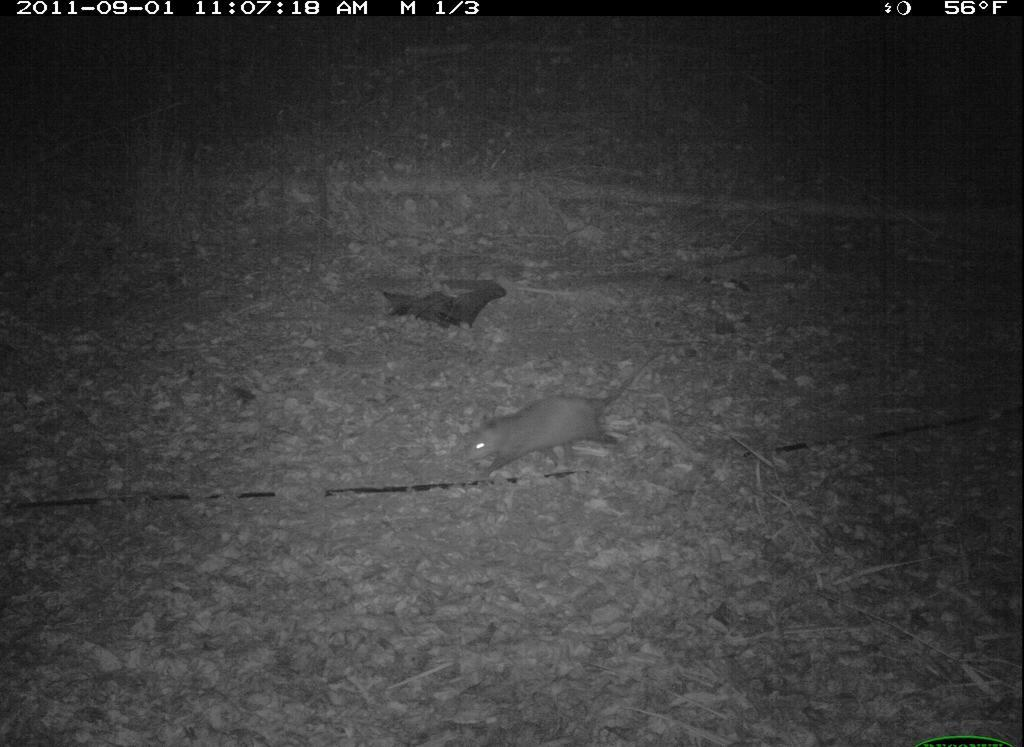opossum: (466, 351, 671, 478)
